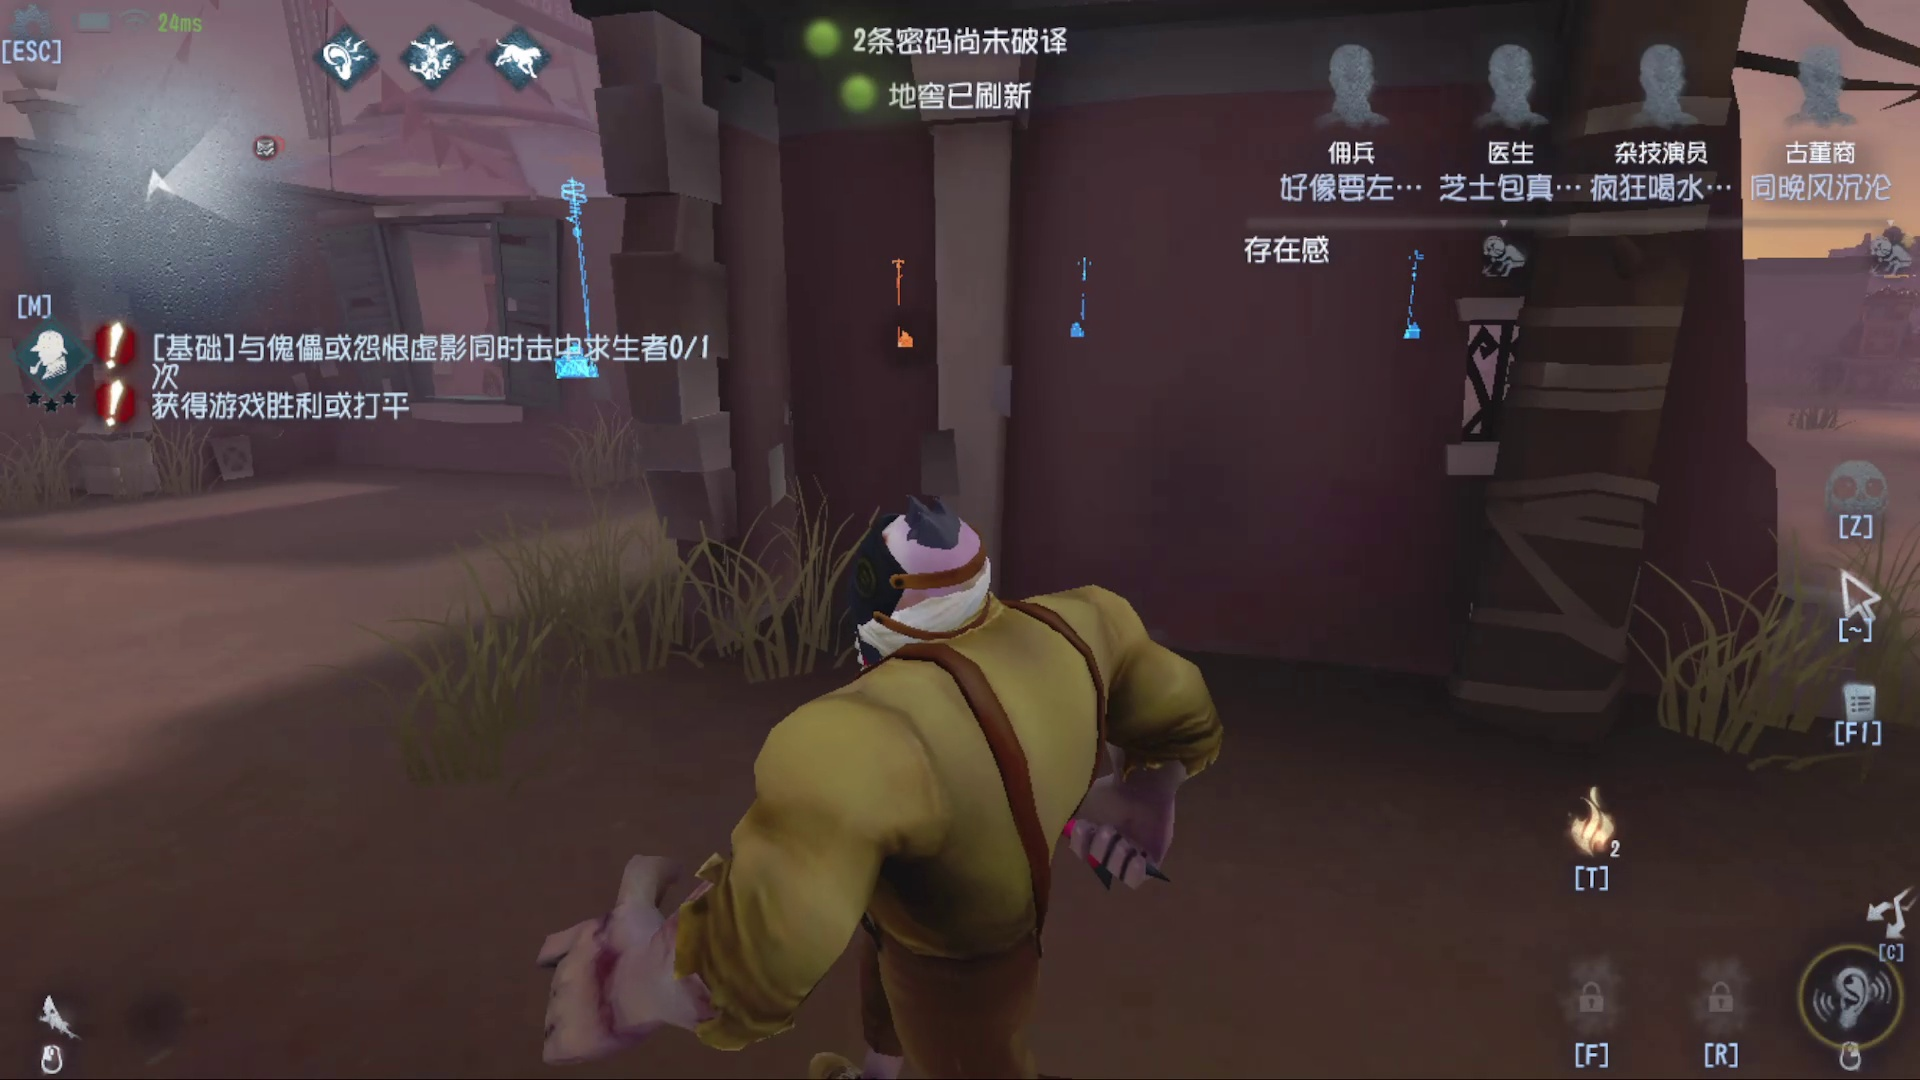密码机: (533, 161, 617, 411), (880, 235, 936, 394), (1054, 240, 1124, 367), (1393, 244, 1445, 371)
